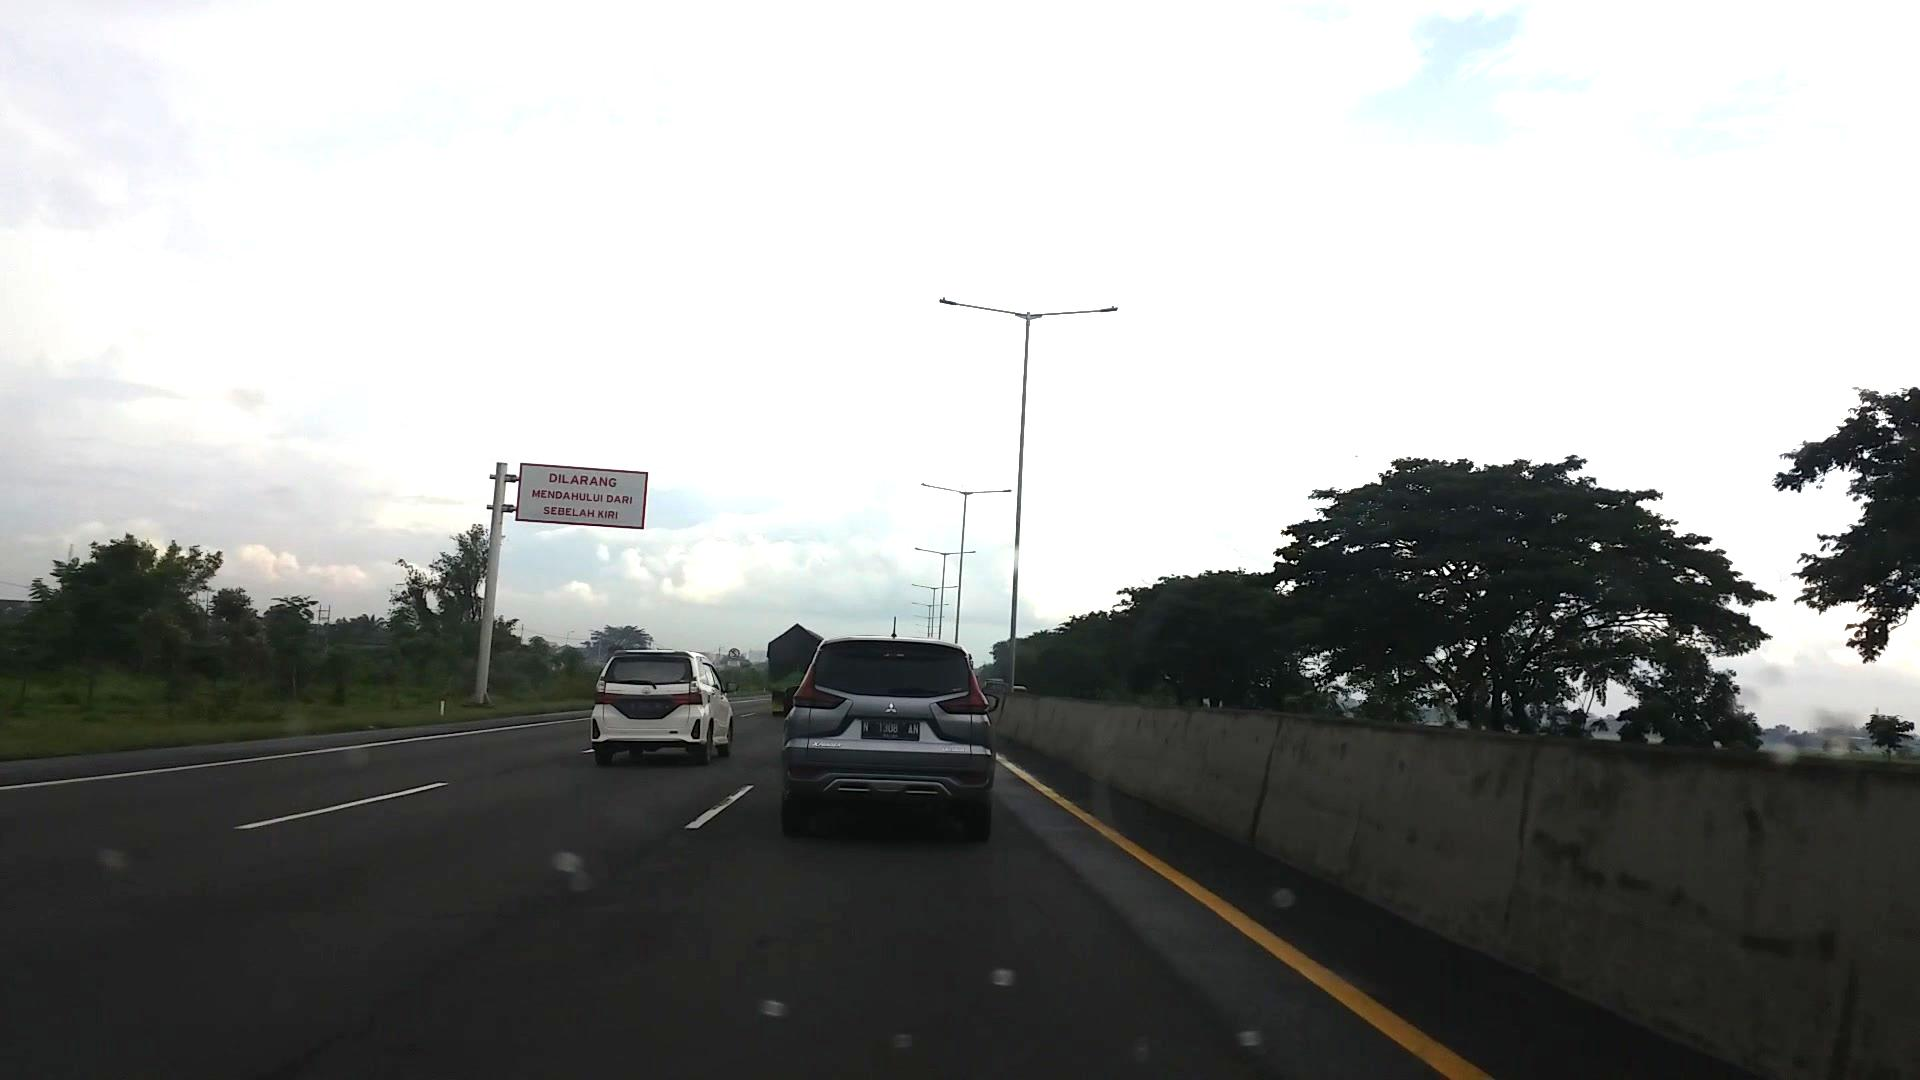plate_positive: (861, 719, 920, 740)
